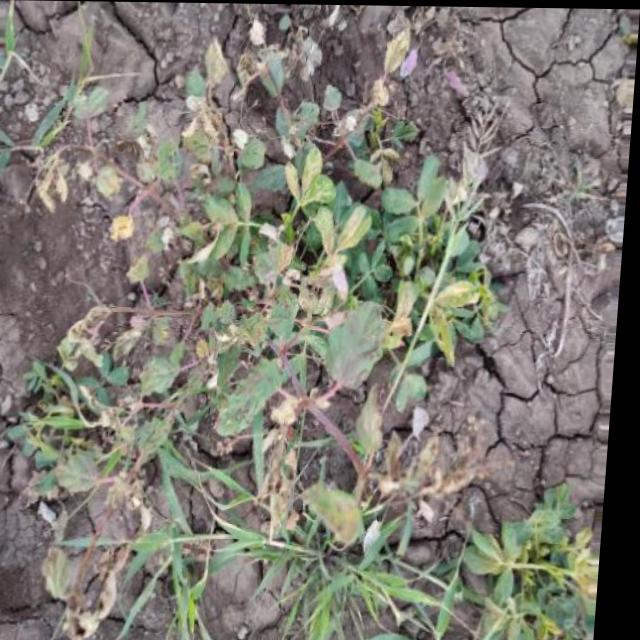weed: (65, 95, 578, 561)
